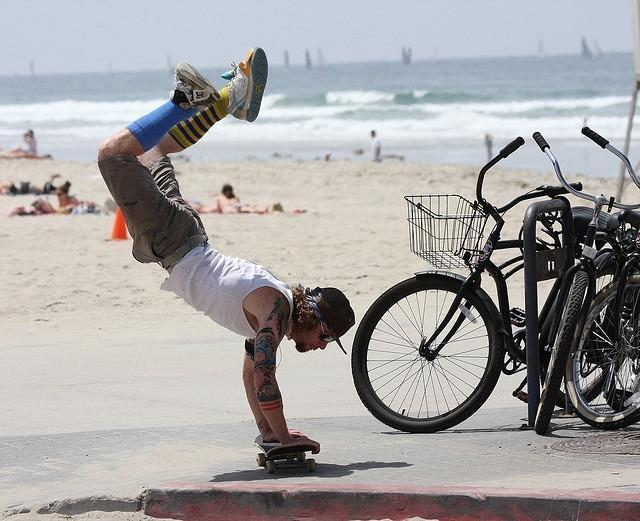bicycle: (352, 136, 578, 434), (535, 205, 622, 433), (561, 273, 640, 429), (581, 127, 640, 190)
